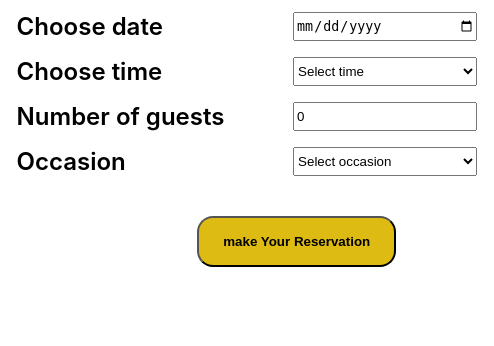
Test: Form Validation › should display error if occasion is not selected
Step 1. Type "2024-09-30" into the date field labelled "Choose date" → (385, 26), box [293, 12, 477, 41]
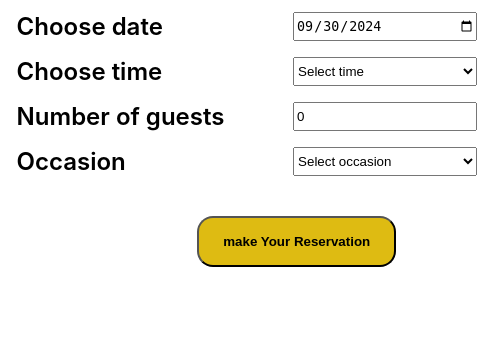
Step 2. Select "12:00 PM" in the dropdown labelled "Choose time" → (385, 72), box [293, 57, 477, 86]
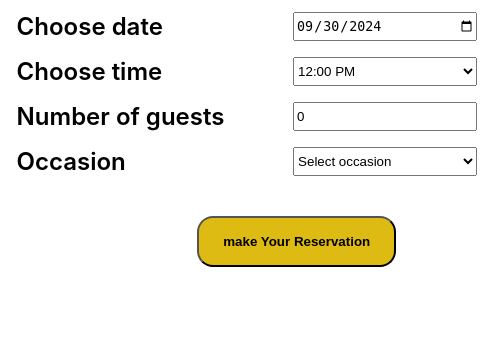
Step 3. Replace the text in the number field labelled "Number of guests" with "1" → (385, 116), box [293, 102, 477, 131]
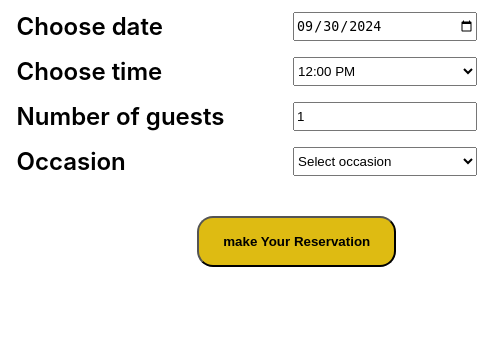
Step 4. Click the button "make Your Reservation" → (297, 242), box [197, 216, 396, 267]
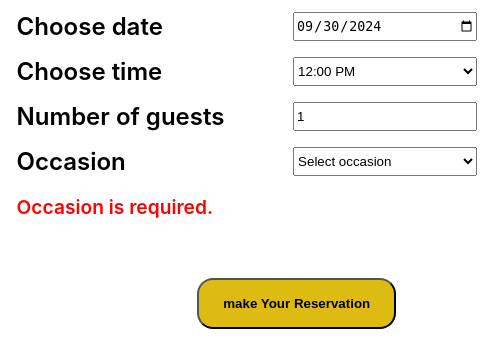
Now the text "Occasion is required." is shown, box [17, 195, 213, 219]
